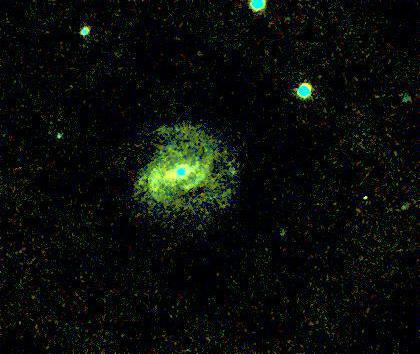star: (388, 192, 418, 222)
